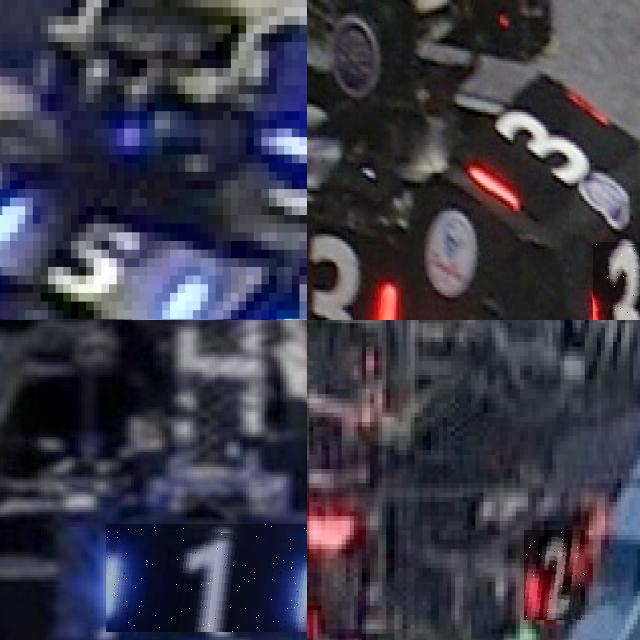B1: (105, 524, 307, 631)
R2: (524, 530, 585, 620)
R3: (307, 231, 397, 320), (592, 241, 640, 320)
